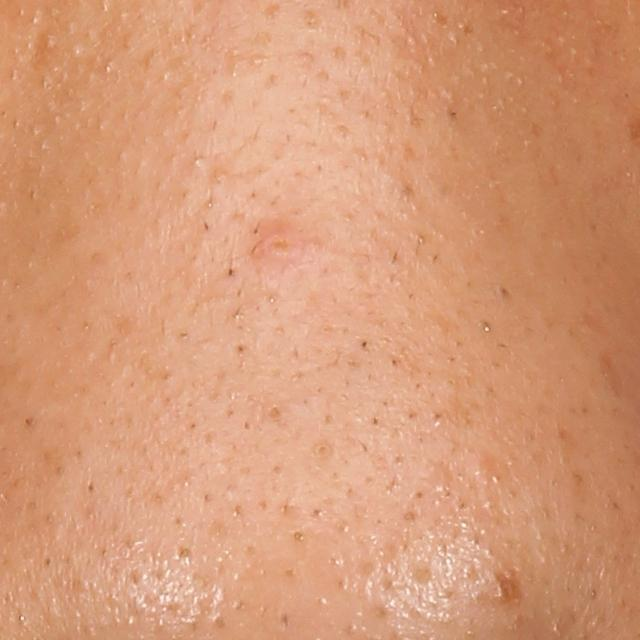comedo: (166, 541, 194, 566), (310, 443, 331, 457)
nevus: (484, 568, 528, 609)
papule: (224, 216, 333, 269)
